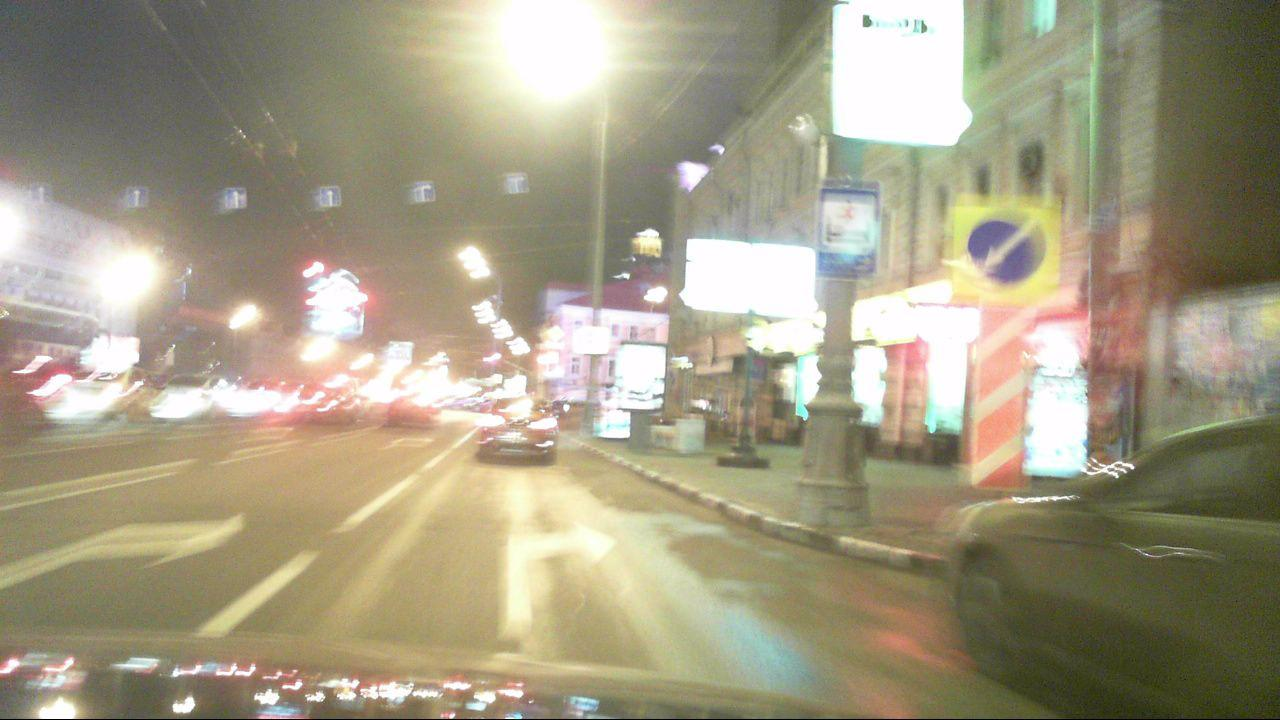4_2_2: (952, 195, 1061, 299)
7_2: (819, 182, 882, 279)
8_22_2: (970, 306, 1024, 493)
